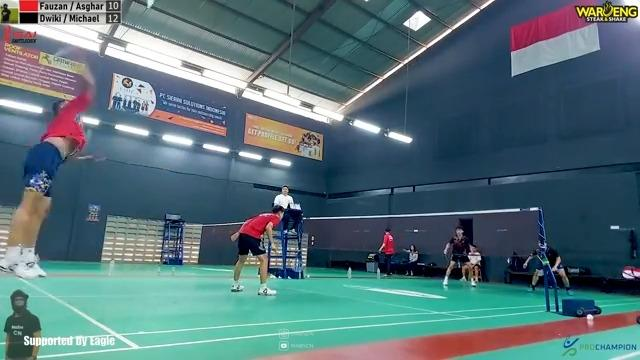Shuttlecock: (141, 1, 159, 12)
